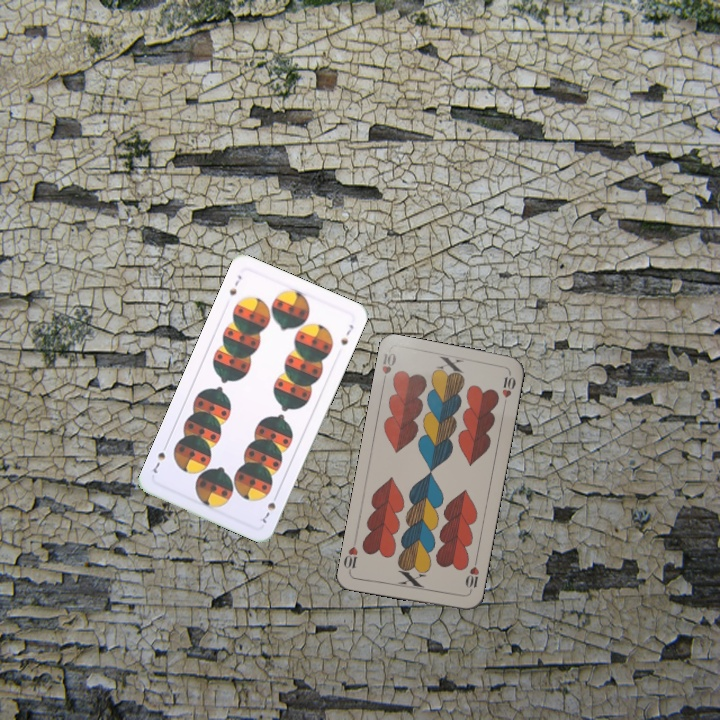H10: (461, 556, 482, 596), (378, 349, 399, 388)
S7: (258, 489, 281, 526), (225, 271, 244, 298)
